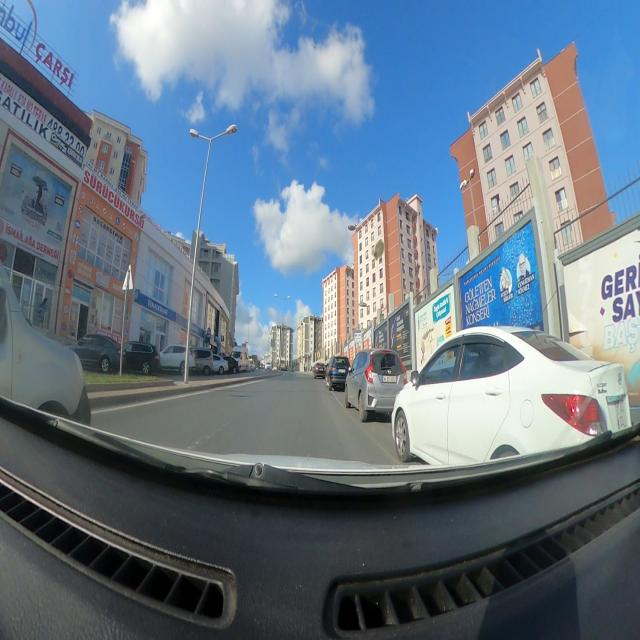SignStore: (1, 218, 60, 266), (144, 296, 173, 320), (92, 268, 113, 293), (192, 324, 201, 337)
